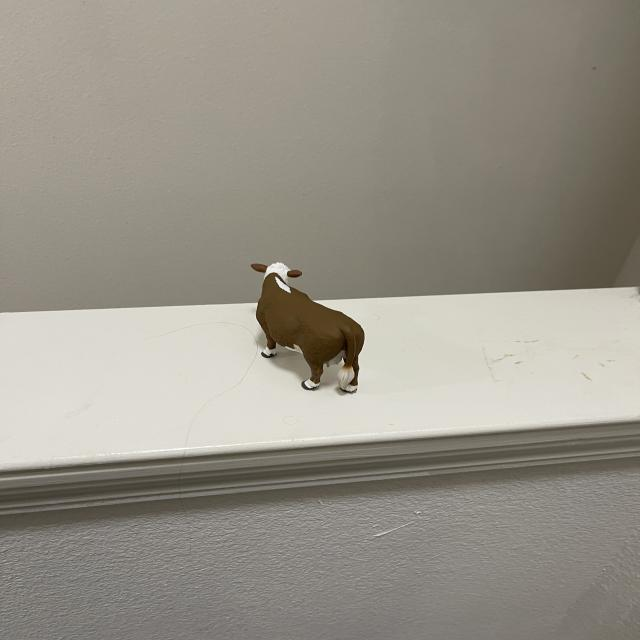cow: (213, 247, 390, 419)
